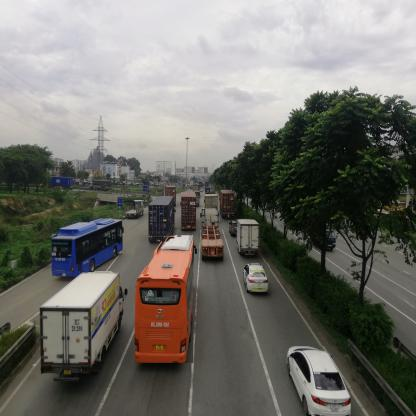bus: (136, 236, 194, 364), (53, 220, 123, 277)
car: (290, 347, 352, 416), (245, 264, 271, 295)
container: (150, 198, 176, 243), (182, 193, 197, 230), (221, 192, 236, 220), (51, 177, 74, 187), (165, 187, 177, 197)
truck: (42, 272, 127, 374), (239, 221, 260, 255), (202, 209, 220, 248), (127, 201, 144, 221), (90, 181, 113, 192), (205, 194, 219, 210)
